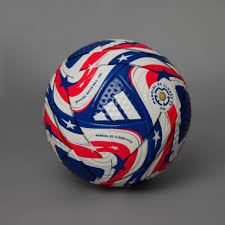football ball: (40, 38, 193, 189)
